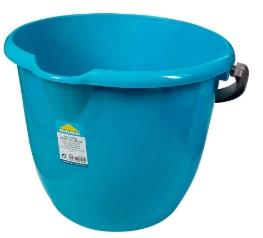SEAU: (0, 0, 248, 238)
